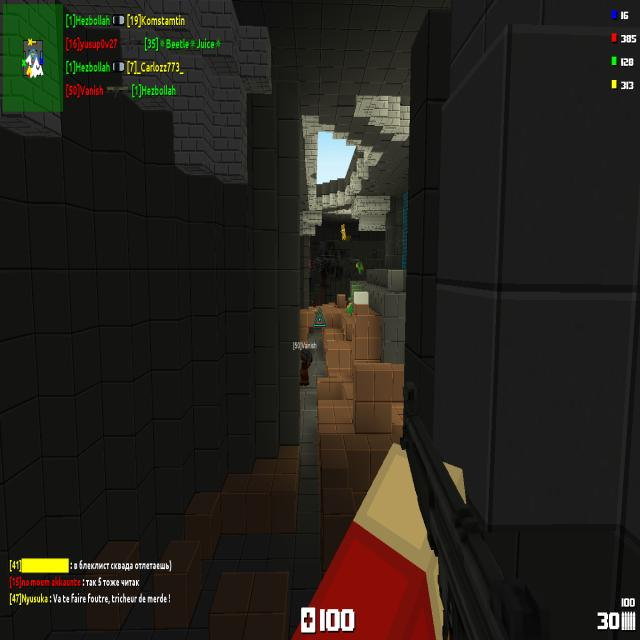enemy: (340, 224, 346, 241)
